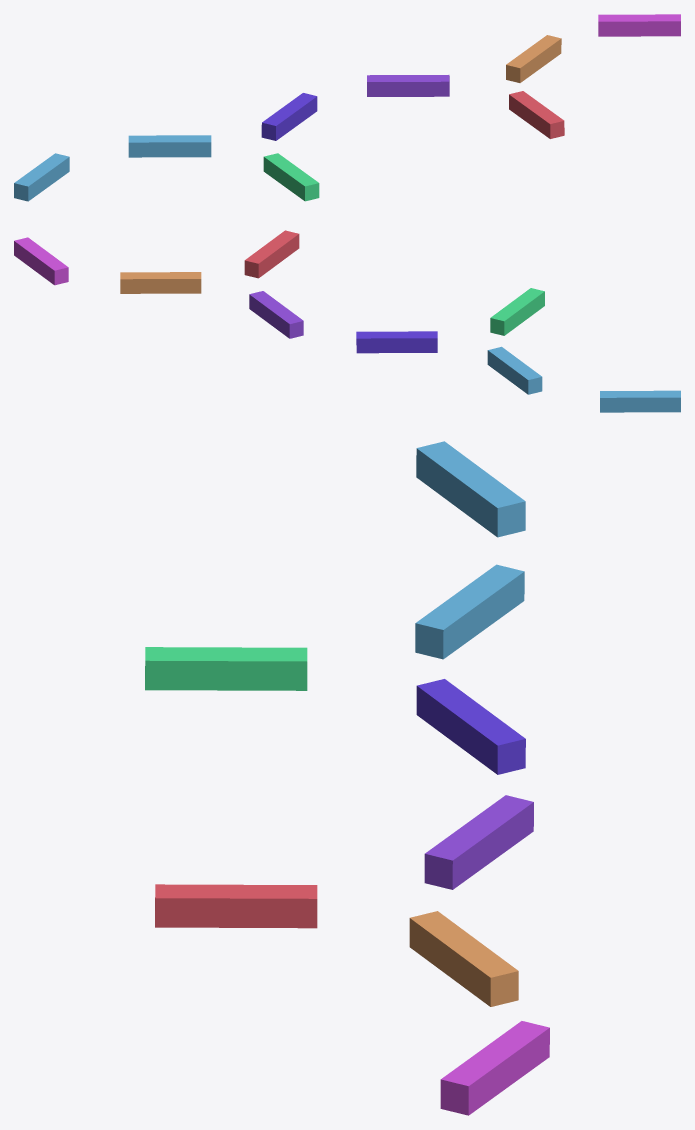
The model's file is roads4.dae.
3 views of the same model, one above another, from view 1: azimuth 30°, elevation 25°; view 2: azimuth 150°, elevation 25°; view 3: azimuth 270°, elevation 25° (orthographic). The views are drawn at different scales.
Visible parts, largest first — view 1: road.024; view 2: road.024; view 3: road.024.
Part boxes in pixels (x1=…): road.024: x1=14, y1=14, x2=680, y2=201; road.024: x1=14, y1=230, x2=680, y2=412; road.024: x1=145, y1=441, x2=549, y2=1115.
Bounding box in the file's own units: 4.71 × 1.25 × 0.1024.
